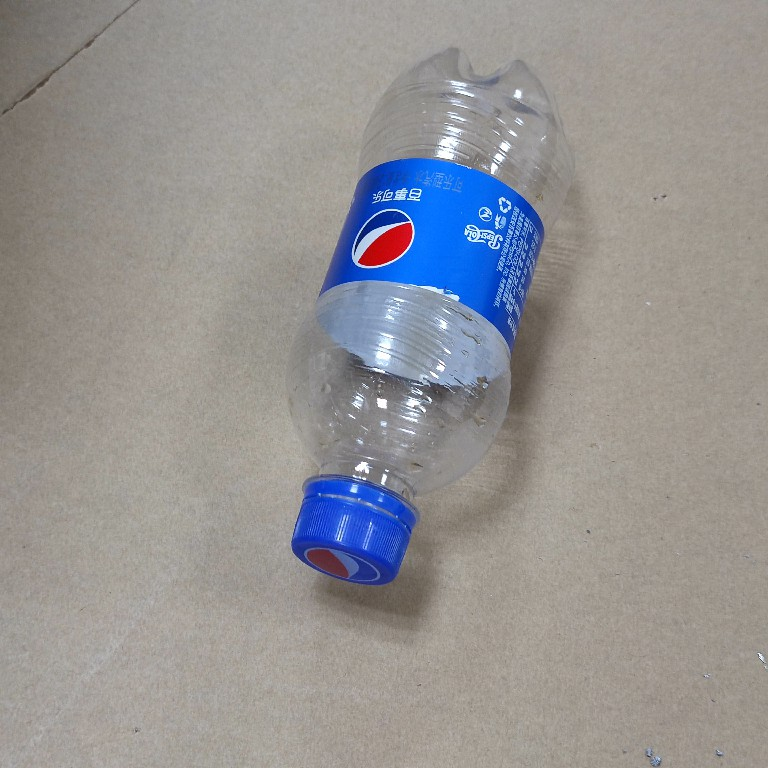bottle: (282, 41, 559, 596)
